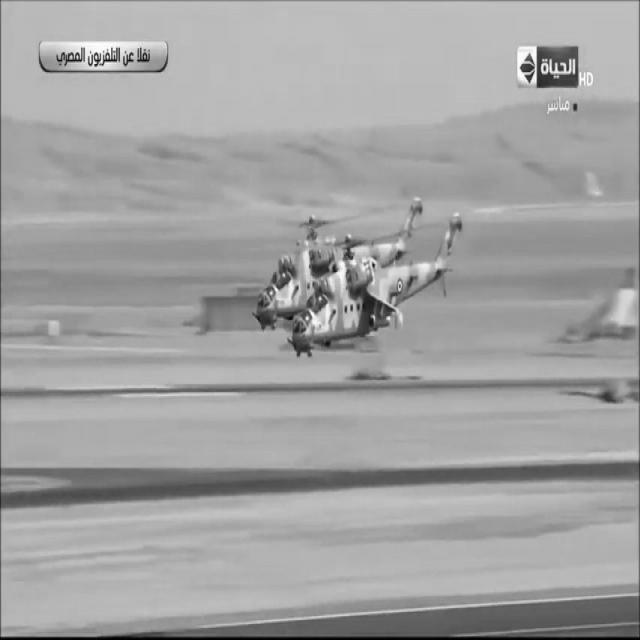helikopter: (233, 204, 481, 379)
